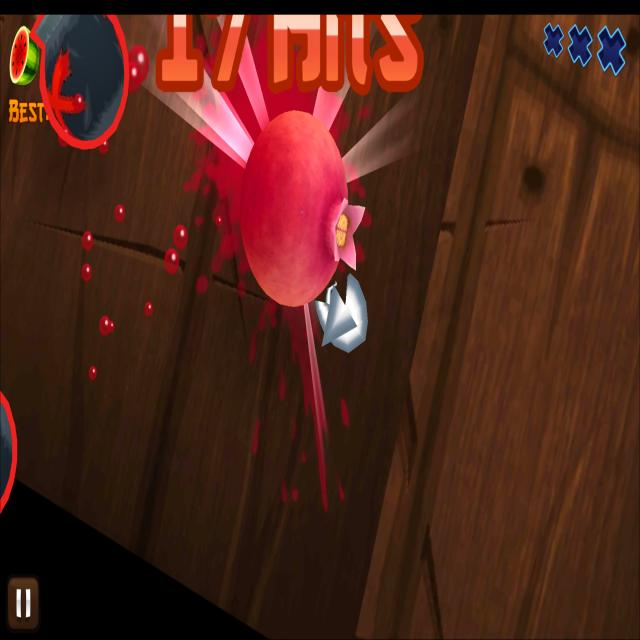bomb: (30, 14, 130, 149), (0, 392, 18, 514)
fruit: (240, 110, 365, 306)
